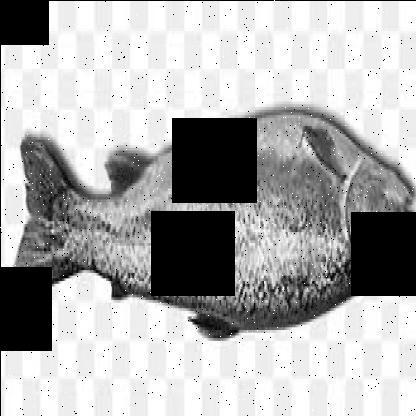fish: (9, 108, 415, 346)
